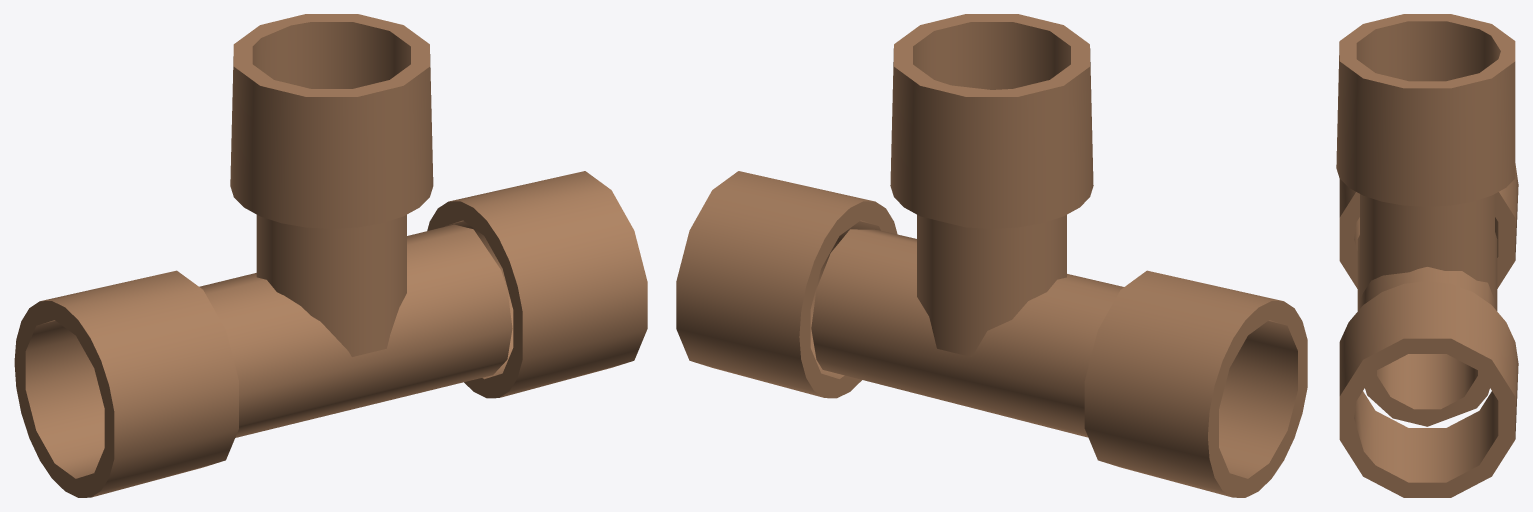
File: HID-CNX-003_lod1.glb
3 views of the same model, side by side, from view 1: azimuth 30°, elevation 25°; view 2: azimuth 150°, elevation 25°; view 3: azimuth 270°, elevation 25° (orthographic). The views are drawn at different scales.
Visible parts, largest first — view 1: HID-CNX-003_b1, HID-CNX-003_b3, HID-CNX-003_corpo, HID-CNX-003_b2, HID-CNX-003_ramal; view 2: HID-CNX-003_b1, HID-CNX-003_b3, HID-CNX-003_corpo, HID-CNX-003_b2, HID-CNX-003_ramal; view 3: HID-CNX-003_b3, HID-CNX-003_b2, HID-CNX-003_ramal, HID-CNX-003_corpo, HID-CNX-003_b1.
Boxes of the visible parts, x1,y1,x2,y2 form: HID-CNX-003_b1: (14,270,238,497); HID-CNX-003_b3: (230,14,433,228); HID-CNX-003_corpo: (199,224,512,437); HID-CNX-003_b2: (427,171,647,398); HID-CNX-003_ramal: (256,214,406,356); HID-CNX-003_b1: (1084,270,1307,497); HID-CNX-003_b3: (890,14,1093,228); HID-CNX-003_corpo: (811,229,1123,437); HID-CNX-003_b2: (676,171,897,398); HID-CNX-003_ramal: (917,215,1066,356); HID-CNX-003_b3: (1336,14,1515,206); HID-CNX-003_b2: (1339,281,1518,497); HID-CNX-003_ramal: (1360,194,1494,300); HID-CNX-003_corpo: (1357,232,1497,426); HID-CNX-003_b1: (1339,163,1518,288).
Size of the model in its own units: 0.094 by 0.0625 by 0.031.
